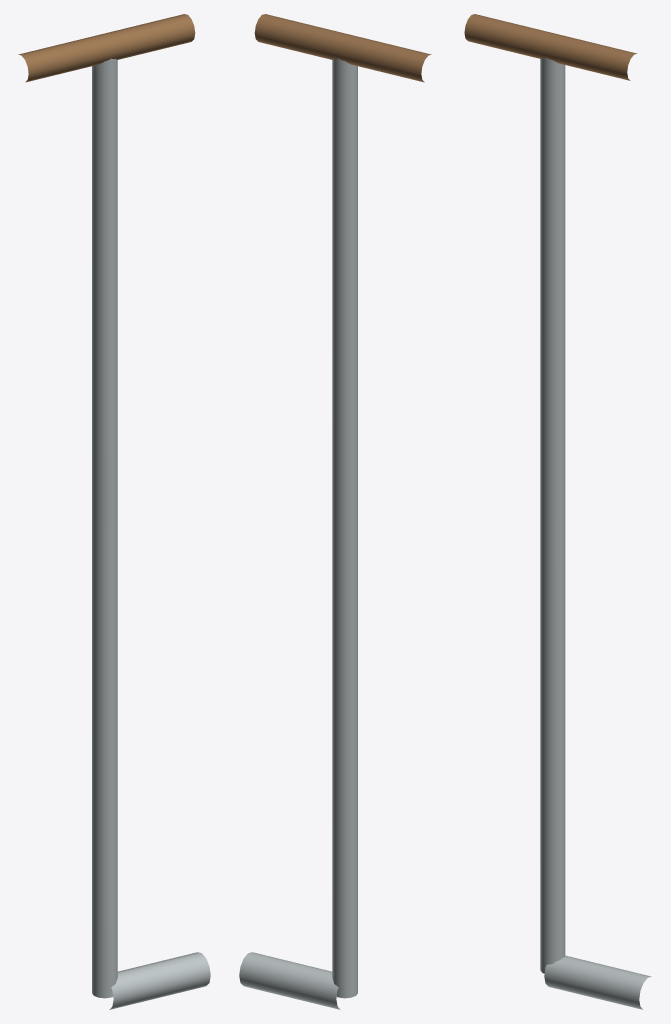
File: glassblowing-studio-and-gallery-furnace-door-tool-12e53304__29603.glb
The picture shows the model from 3 angles, left to right: view 1: azimuth 30°, elevation 25°; view 2: azimuth 150°, elevation 25°; view 3: azimuth 330°, elevation 25°; orthographic projection. The views are drawn at different scales.
Visible parts, largest first — view 1: furnace-door-tool; view 2: furnace-door-tool; view 3: furnace-door-tool.
Boxes of the visible parts, box(x1,y1,x2,y2) form: furnace-door-tool: box(18, 14, 210, 1009); furnace-door-tool: box(239, 14, 431, 1009); furnace-door-tool: box(464, 14, 651, 1009).
Bounding box in the file's own units: 0.26 × 1.34 × 0.0441.
